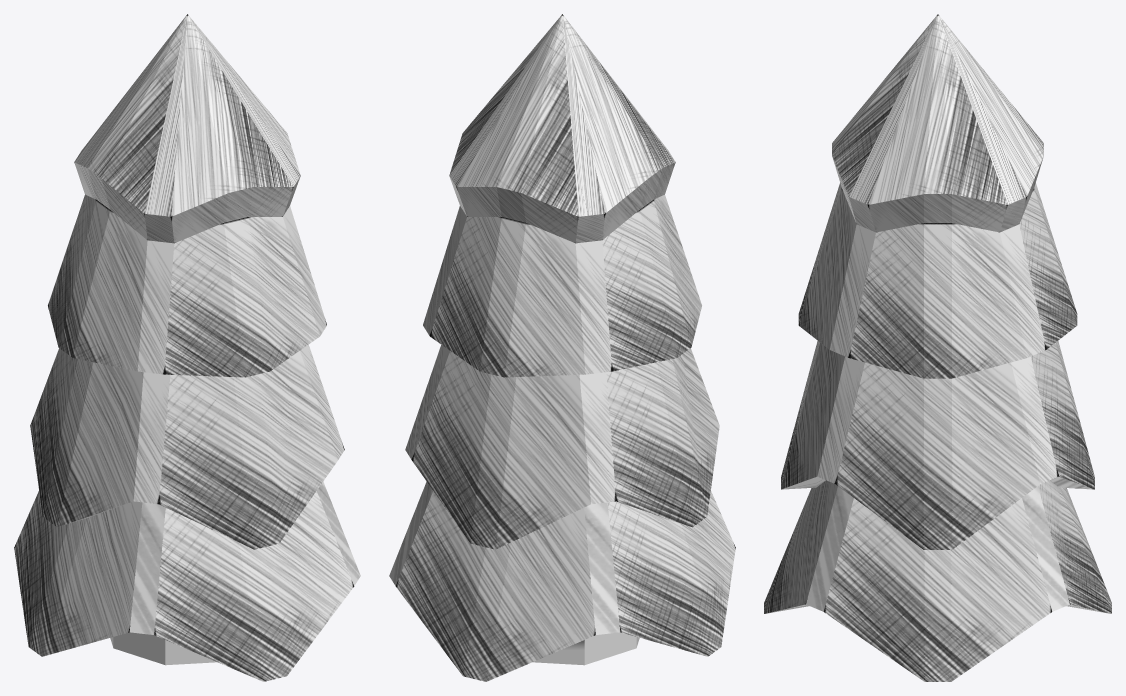
Rendered from tree1.fbx.
The picture shows the model from 3 angles, left to right: view 1: azimuth 30°, elevation 25°; view 2: azimuth 150°, elevation 25°; view 3: azimuth 270°, elevation 25°; orthographic projection.
Parts seen in each view (by area): view 1: tree1; view 2: tree1; view 3: tree1.
Boxes of the visible parts, x1,y1,x2,y2 form: tree1: (14,14,360,681); tree1: (389,14,735,681); tree1: (764,14,1111,681).
Size of the model in its own units: 411 by 795 by 411.
